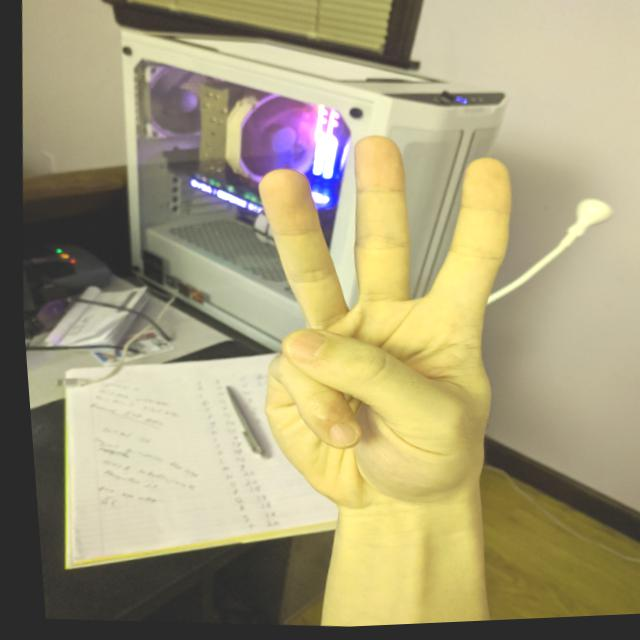W: (224, 120, 537, 532)
